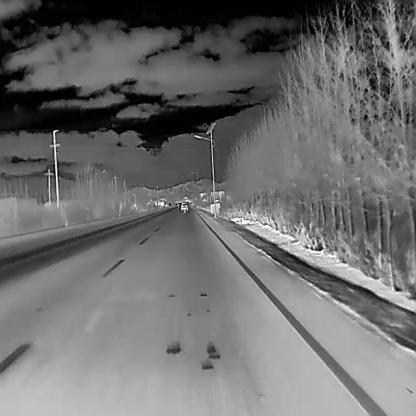car: (180, 202, 188, 210)
